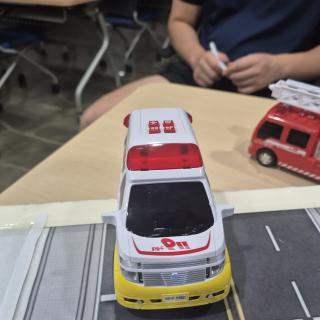Ambulance: (101, 108, 234, 309)
